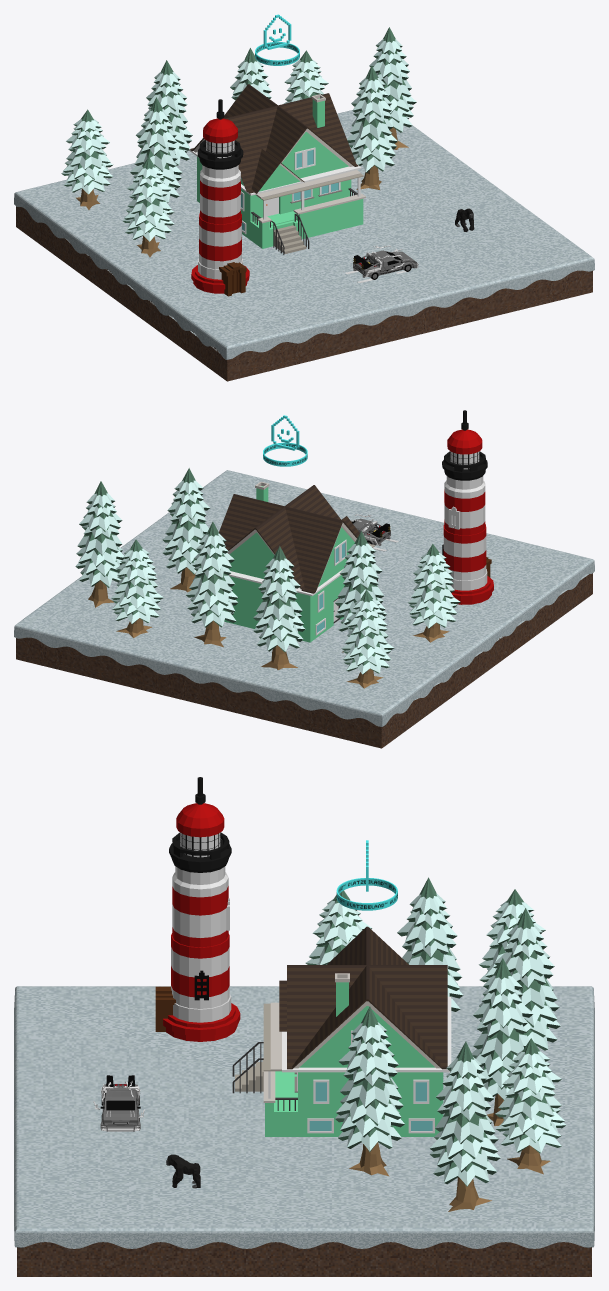
3 views of the same model, one above another, from view 1: azimuth 30°, elevation 25°; view 2: azimuth 150°, elevation 25°; view 3: azimuth 270°, elevation 25° (orthographic). The views are drawn at different scales.
Visible parts, largest first — view 1: Cube.003, Cube.352, OBJRANDOM_LIGHTHOUSE, VEHICLES_DELOREAN, TYPE_PREMIUM; view 2: Cube.003, Cube.352, OBJRANDOM_LIGHTHOUSE, TYPE_PREMIUM, VEHICLES_DELOREAN; view 3: Cube.003, Cube.352, OBJRANDOM_LIGHTHOUSE, VEHICLES_DELOREAN, TYPE_PREMIUM, ANIMAL_GORILA.
Part boxes in pixels (x1=…): Cube.003: x1=14, y1=27, x2=594, y2=381; Cube.352: x1=189, y1=84, x2=365, y2=254; OBJRANDOM_LIGHTHOUSE: x1=191, y1=99, x2=249, y2=296; VEHICLES_DELOREAN: x1=343, y1=245, x2=418, y2=283; TYPE_PREMIUM: x1=255, y1=14, x2=299, y2=65; Cube.003: x1=14, y1=468, x2=594, y2=748; Cube.352: x1=219, y1=481, x2=377, y2=642; OBJRANDOM_LIGHTHOUSE: x1=442, y1=410, x2=493, y2=604; TYPE_PREMIUM: x1=263, y1=415, x2=307, y2=466; VEHICLES_DELOREAN: x1=350, y1=514, x2=400, y2=551; Cube.003: x1=14, y1=877, x2=594, y2=1276; Cube.352: x1=232, y1=926, x2=451, y2=1136; OBJRANDOM_LIGHTHOUSE: x1=155, y1=777, x2=240, y2=1041; VEHICLES_DELOREAN: x1=93, y1=1075, x2=145, y2=1131; TYPE_PREMIUM: x1=336, y1=840, x2=397, y2=910; ANIMAL_GORILA: x1=166, y1=1154, x2=200, y2=1188.
Bounding box in the file's own units: 4040 × 2471 × 4040.
Materials: 39 (4 with a texture image).
